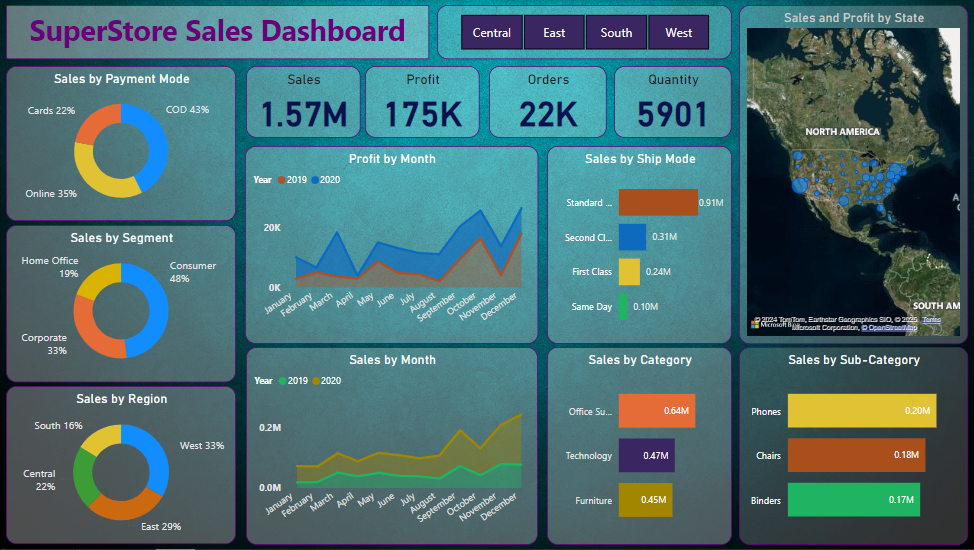

This screenshot's page, from the dashboard's own definition file:
{"tool":"powerbi","page":{"name":"Page 1","canvas":[1280,720],"ordinal":0},"visuals":[{"type":"clusteredBarChart","title":"Sales by Category","fields":{"Category":["SuperStore_Sales_Dataset.Category"],"Y":["Sum(SuperStore_Sales_Dataset.Sales)"]},"box":[718.7,455.6,242.2,259.2],"z":0},{"type":"clusteredBarChart","title":"Sales by Sub-Category","fields":{"Y":["Sum(SuperStore_Sales_Dataset.Sales)"],"Category":["SuperStore_Sales_Dataset.Sub-Category"]},"box":[969.8,455.5,299.8,258.6],"z":1000},{"type":"clusteredBarChart","title":"Sales by Ship Mode","fields":{"Y":["Sum(SuperStore_Sales_Dataset.Sales)"],"Category":["SuperStore_Sales_Dataset.Ship Mode"]},"box":[718.5,192.5,242.4,258.6],"z":2000},{"type":"stackedAreaChart","title":"Sales by Month","fields":{"Y":["Sum(SuperStore_Sales_Dataset.Sales)"],"Series":["SuperStore_Sales_Dataset.Order Date.Variation.Date Hierarchy.Year"],"Category":["SuperStore_Sales_Dataset.Order Date.Variation.Date Hierarchy.Month"]},"box":[324.7,455.5,382,258.6],"z":3000},{"type":"stackedAreaChart","title":"Profit by Month","fields":{"Category":["SuperStore_Sales_Dataset.Order Date.Variation.Date Hierarchy.Month","SuperStore_Sales_Dataset.Order Date.Variation.Date Hierarchy.Day"],"Series":["SuperStore_Sales_Dataset.Order Date.Variation.Date Hierarchy.Year"],"Y":["Sum(SuperStore_Sales_Dataset.Profit)"]},"box":[323.3,192.4,383.6,259.2],"z":4000},{"type":"map","title":"Sales and Profit by State","fields":{"Category":["SuperStore_Sales_Dataset.State"],"Size":["Sum(SuperStore_Sales_Dataset.Sales)"]},"box":[969.8,7.3,299.8,443.8],"z":5000},{"type":"donutChart","title":"Sales by Segment","fields":{"Category":["SuperStore_Sales_Dataset.Segment"],"Y":["Sum(SuperStore_Sales_Dataset.Sales)"]},"box":[10.3,295.3,301.2,205.7],"z":6000},{"type":"donutChart","title":"Sales by Payment Mode","fields":{"Category":["SuperStore_Sales_Dataset.Payment Mode"],"Y":["Sum(SuperStore_Sales_Dataset.Sales)"]},"box":[10.3,88.2,301.2,203],"z":7000},{"type":"donutChart","title":"Sales by Region","fields":{"Y":["Sum(SuperStore_Sales_Dataset.Sales)"],"Category":["SuperStore_Sales_Dataset.Region"]},"box":[10.3,506.9,301.2,207.2],"z":8000},{"type":"slicer","fields":{"Values":["SuperStore_Sales_Dataset.Region"]},"box":[574.5,7.3,386.4,70.5],"z":9000},{"type":"textbox","box":[10.3,7.3,554,70.5],"z":10000},{"type":"card","title":"Sales","fields":{"Values":["Sum(SuperStore_Sales_Dataset.Sales)"]},"box":[324.7,88.2,149.9,94],"z":11000},{"type":"card","title":"Profit","fields":{"Values":["Sum(SuperStore_Sales_Dataset.Profit)"]},"box":[480.5,88.2,149.9,94],"z":12000},{"type":"card","title":"Orders","fields":{"Values":["Sum(SuperStore_Sales_Dataset.Quantity)"]},"box":[642.1,88.2,154.3,94],"z":13000},{"type":"card","title":"Quantity","fields":{"Values":["CountNonNull(SuperStore_Sales_Dataset.Quantity)"]},"box":[806.7,88.2,154.3,94],"z":14000}]}

Visuals, with their boxes in screenshot pixels (x1, y1, x2, y2), scaled from the page's 1280x720 canvas onto the 974x550 screenshot:
"Sales by Category" clusteredBarChart: box(547, 348, 731, 546)
"Sales by Sub-Category" clusteredBarChart: box(738, 348, 966, 545)
"Sales by Ship Mode" clusteredBarChart: box(547, 147, 731, 345)
"Sales by Month" stackedAreaChart: box(247, 348, 538, 545)
"Profit by Month" stackedAreaChart: box(246, 147, 538, 345)
"Sales and Profit by State" map: box(738, 6, 966, 345)
"Sales by Segment" donutChart: box(8, 226, 237, 383)
"Sales by Payment Mode" donutChart: box(8, 67, 237, 222)
"Sales by Region" donutChart: box(8, 387, 237, 545)
slicer - SuperStore_Sales_Dataset.Region: box(437, 6, 731, 59)
textbox: box(8, 6, 429, 59)
"Sales" card: box(247, 67, 361, 139)
"Profit" card: box(366, 67, 480, 139)
"Orders" card: box(489, 67, 606, 139)
"Quantity" card: box(614, 67, 731, 139)
